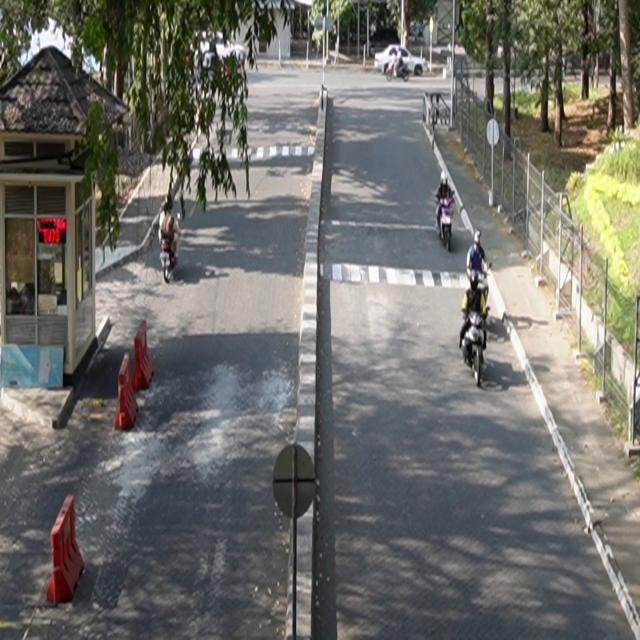car: (375, 45, 428, 77)
